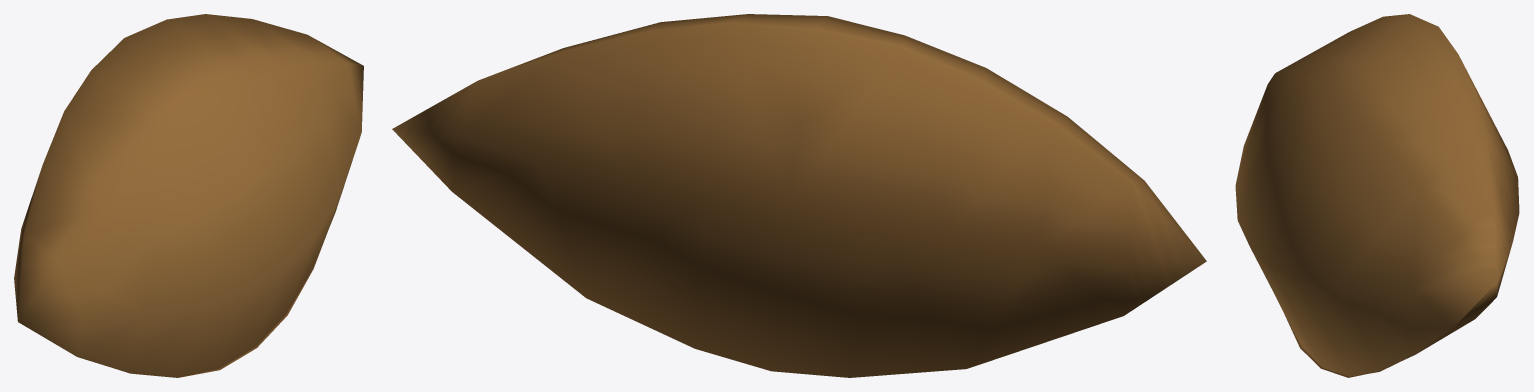
Rendered from NP_Hibiscus_Seed_LOD1.fbx.
3 views of the same model, side by side, from view 1: azimuth 30°, elevation 25°; view 2: azimuth 150°, elevation 25°; view 3: azimuth 270°, elevation 25° (orthographic). The views are drawn at different scales.
Parts seen in each view (by area): view 1: NP_Hibiscus_Seed; view 2: NP_Hibiscus_Seed; view 3: NP_Hibiscus_Seed.
Boxes of the visible parts, x1,y1,x2,y2 form: NP_Hibiscus_Seed: [14, 14, 363, 377]; NP_Hibiscus_Seed: [392, 14, 1206, 377]; NP_Hibiscus_Seed: [1235, 14, 1519, 377].
Bounding box in the file's own units: 6.86 × 4.17 × 3.5.
